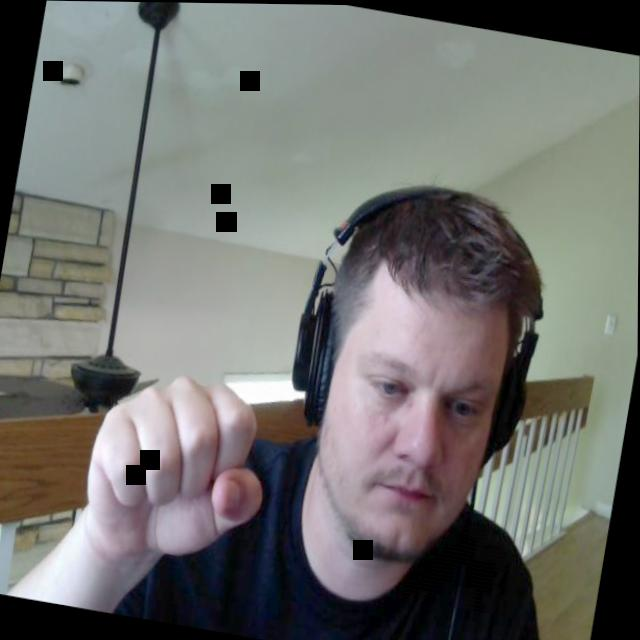Rock: (66, 355, 288, 572)
